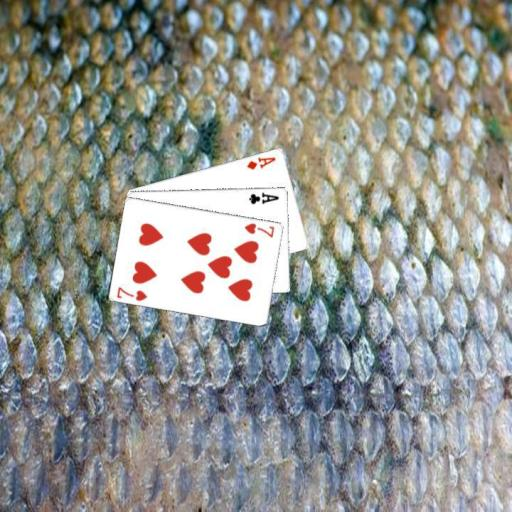7H: (241, 220, 276, 239), (114, 283, 149, 302)
AC: (246, 189, 280, 206)
AD: (244, 154, 277, 171)
